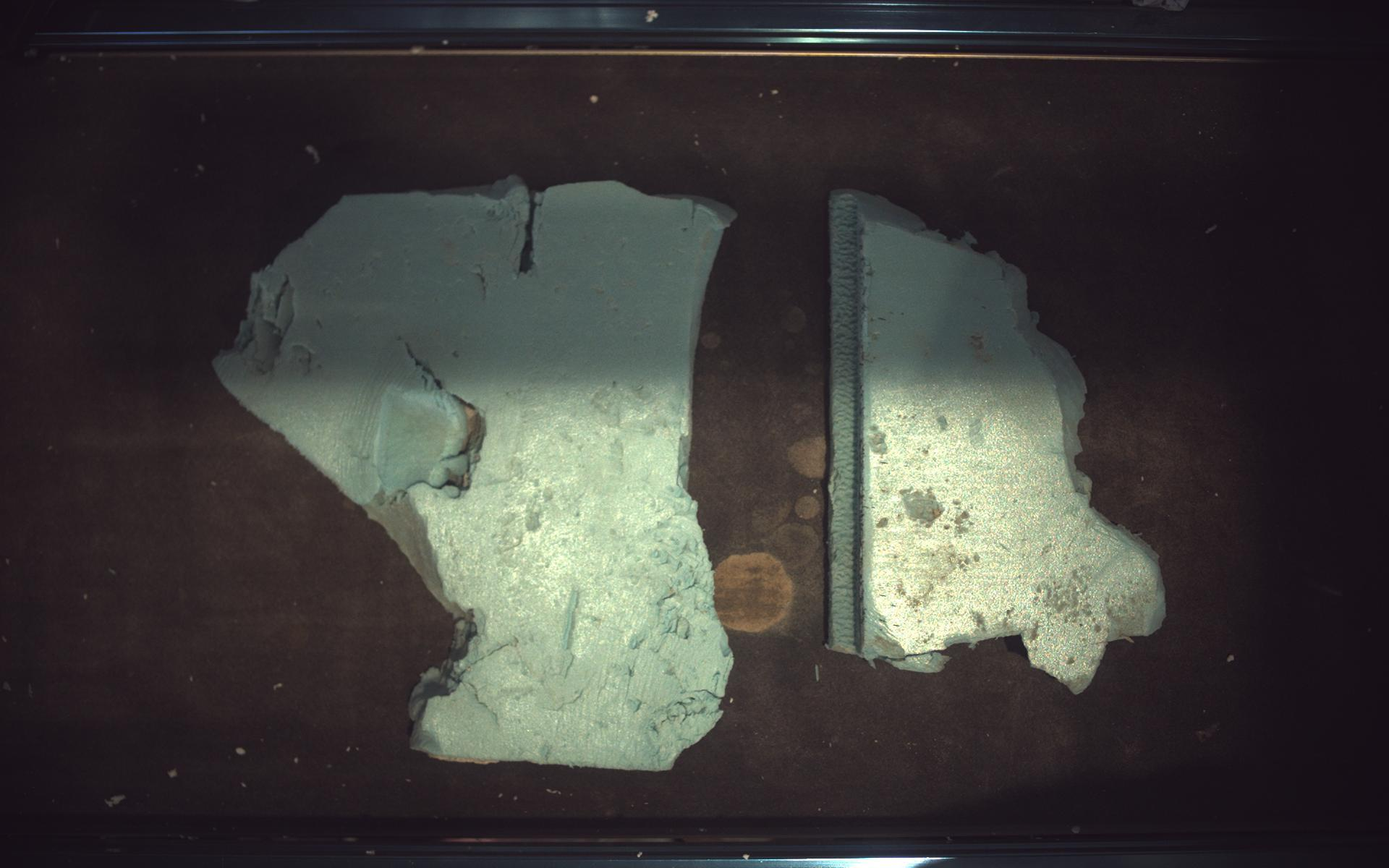foam: (213, 181, 733, 772), (831, 190, 1168, 694)
